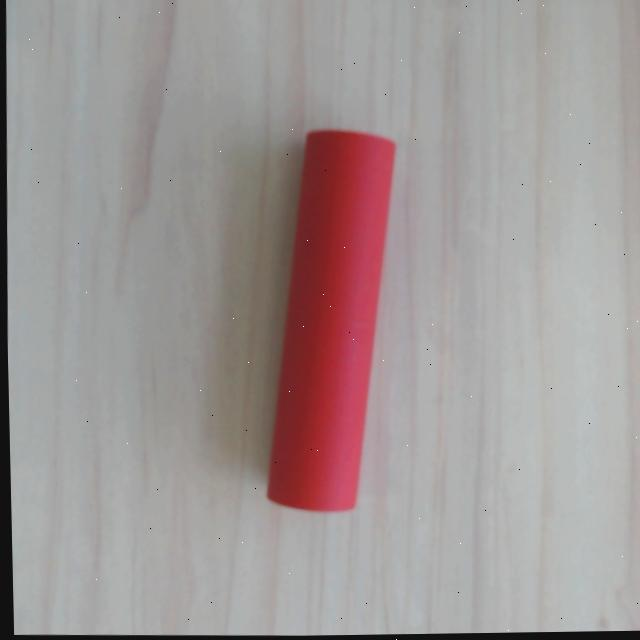Silinder-Merah-10025: (266, 126, 396, 514)
